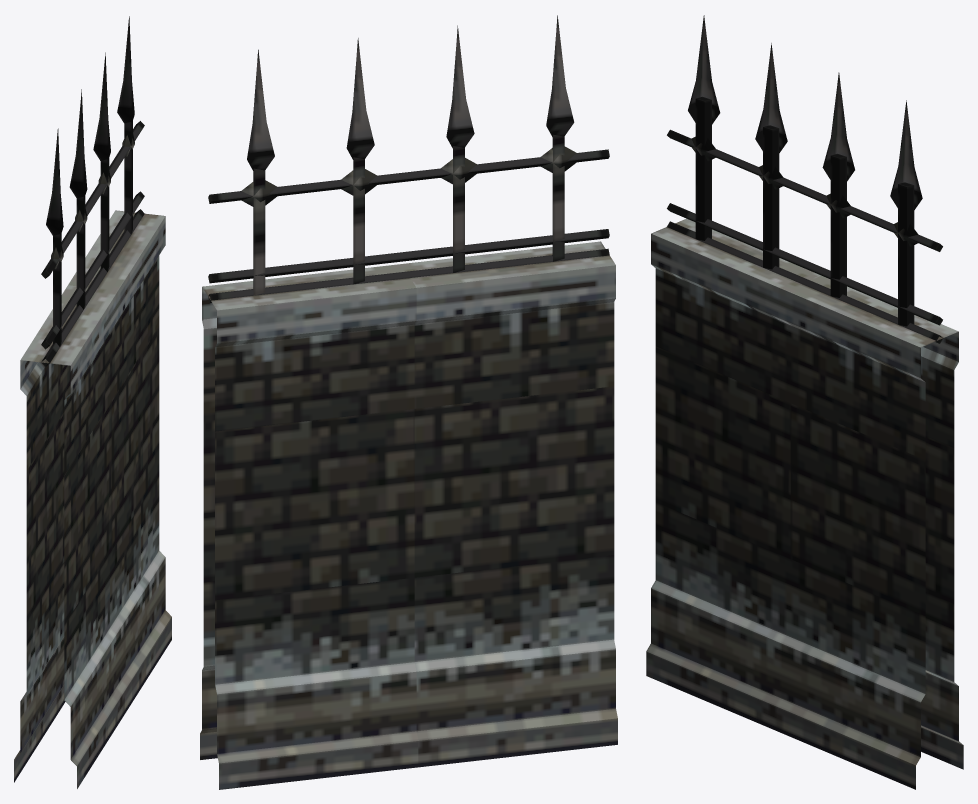
The model's file is EnvBdgMD_Snow_Seidoukikan_A_GrdWall_SL_LF_Tall_A.FBX.
3 views of the same model, side by side, from view 1: azimuth 30°, elevation 25°; view 2: azimuth 150°, elevation 25°; view 3: azimuth 270°, elevation 25° (orthographic). The views are drawn at different scales.
Visible parts, largest first — view 1: EnvBdgMD_Snow_Seidoukikan_A_GrdWall_SL_LF_Tall_A; view 2: EnvBdgMD_Snow_Seidoukikan_A_GrdWall_SL_LF_Tall_A; view 3: EnvBdgMD_Snow_Seidoukikan_A_GrdWall_SL_LF_Tall_A.
Boxes of the visible parts, x1,y1,x2,y2 form: EnvBdgMD_Snow_Seidoukikan_A_GrdWall_SL_LF_Tall_A: (14, 16, 171, 788); EnvBdgMD_Snow_Seidoukikan_A_GrdWall_SL_LF_Tall_A: (200, 15, 617, 789); EnvBdgMD_Snow_Seidoukikan_A_GrdWall_SL_LF_Tall_A: (646, 15, 963, 789).
Size of the model in its own units: 235 by 545 by 235.
1 material, 1 textured.
